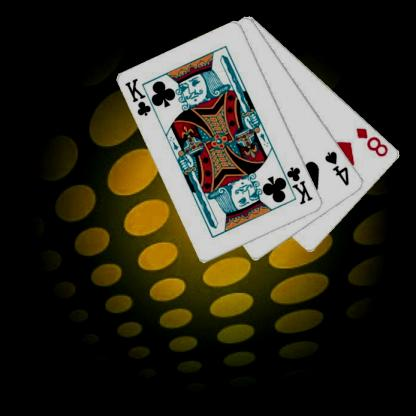4S: (322, 149, 350, 187)
8D: (353, 125, 390, 158)
KC: (278, 164, 314, 206), (123, 76, 159, 118)
